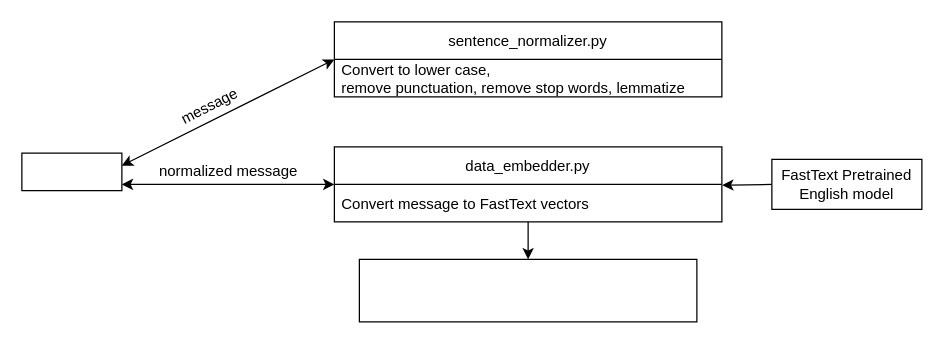
Image size: 944x344. Some labels were removed from this diagram. Each missing label, with the centre of its shape:
"dataset.json" belongs at point 71,171.
"Embedded dataset.json It will be be used as an input to intent_classifier.py" belongs at point 527,290.
